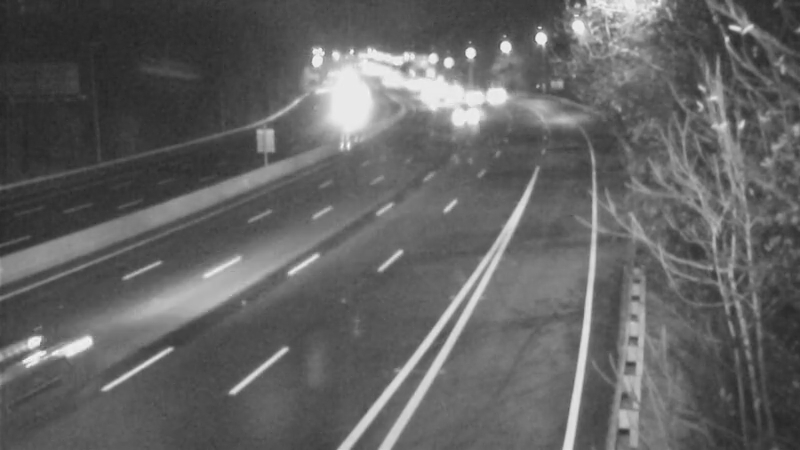vehicle: (469, 69, 519, 119), (444, 71, 494, 121), (439, 93, 489, 143)
